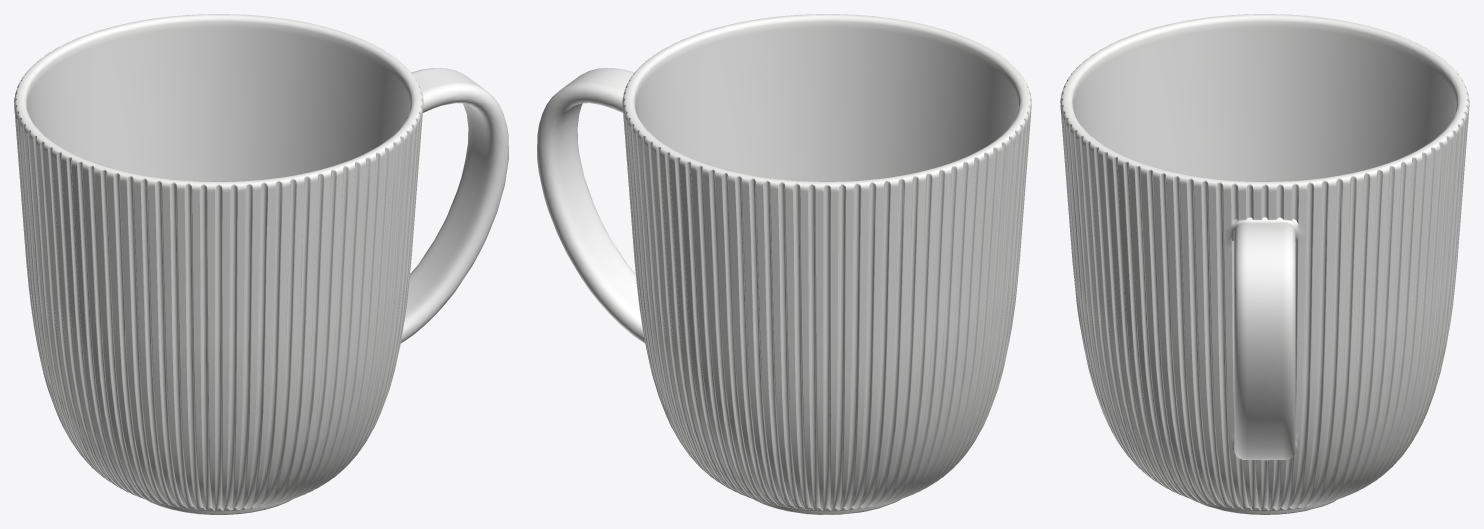
Rendered from ofantligt_kubek_00319022.glb.
The picture shows the model from 3 angles, left to right: view 1: azimuth 30°, elevation 25°; view 2: azimuth 150°, elevation 25°; view 3: azimuth 270°, elevation 25°; orthographic projection.
Visible parts, largest first — view 1: ofantligt_kubek_00319022; view 2: ofantligt_kubek_00319022; view 3: ofantligt_kubek_00319022.
Boxes of the visible parts, x1,y1,x2,y2 form: ofantligt_kubek_00319022: (14, 14, 508, 514); ofantligt_kubek_00319022: (537, 14, 1031, 514); ofantligt_kubek_00319022: (1060, 14, 1469, 514).
Bounding box in the file's own units: 0.1156 × 0.0914 × 0.0898.
1 material, 1 textured.
